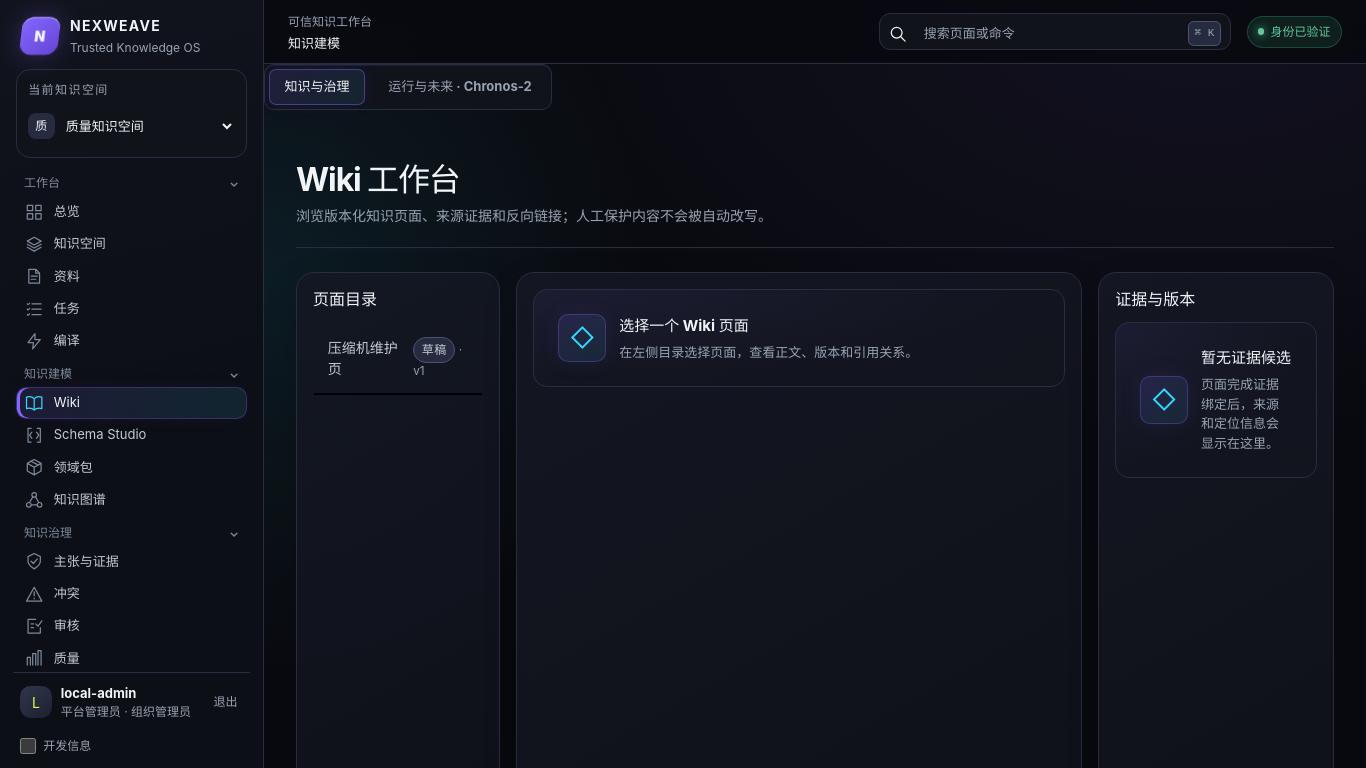
Test: persists the selected Wiki page in the refresh-safe URL
Click the button "压缩机维护页 草稿 · v1" at point(398, 358), box [313,322,483,395]
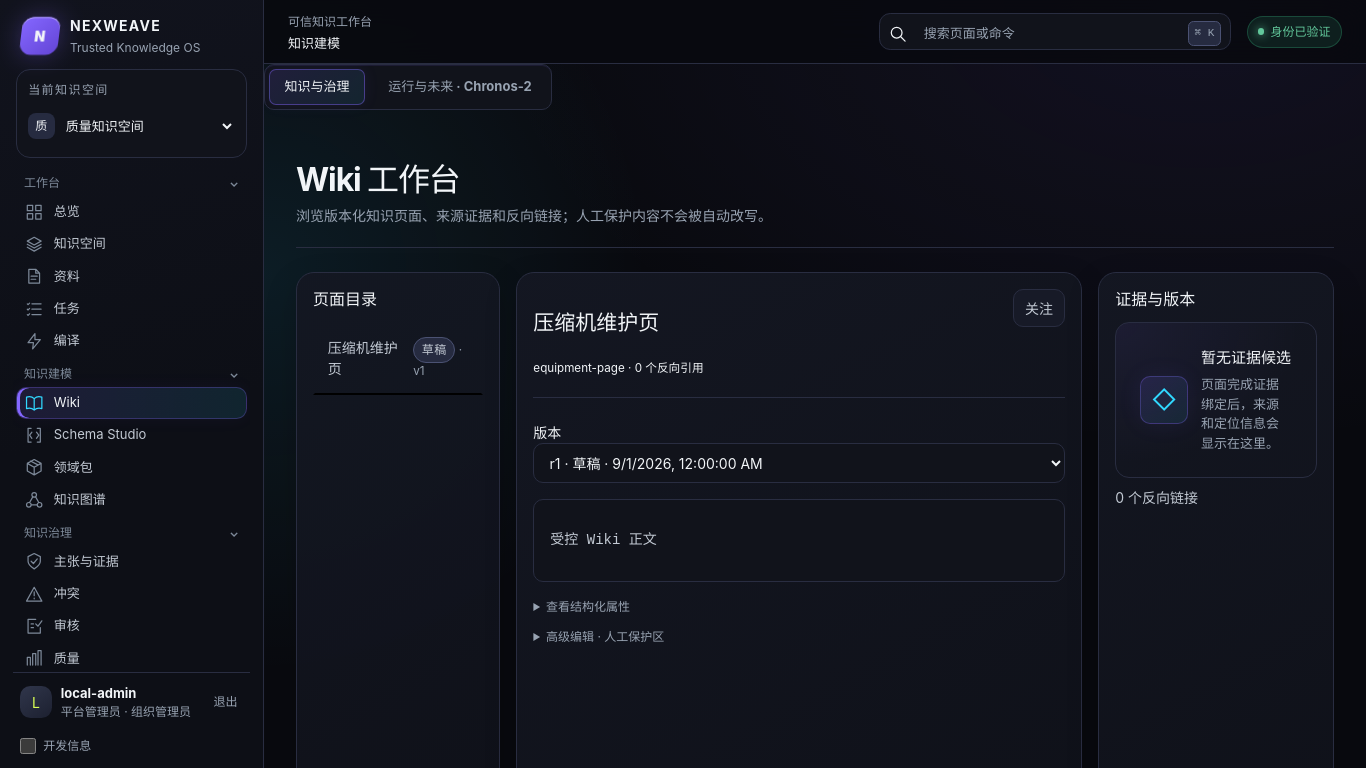
Expected: the text "受控 Wiki 正文" is shown, [550,532,657,548]
